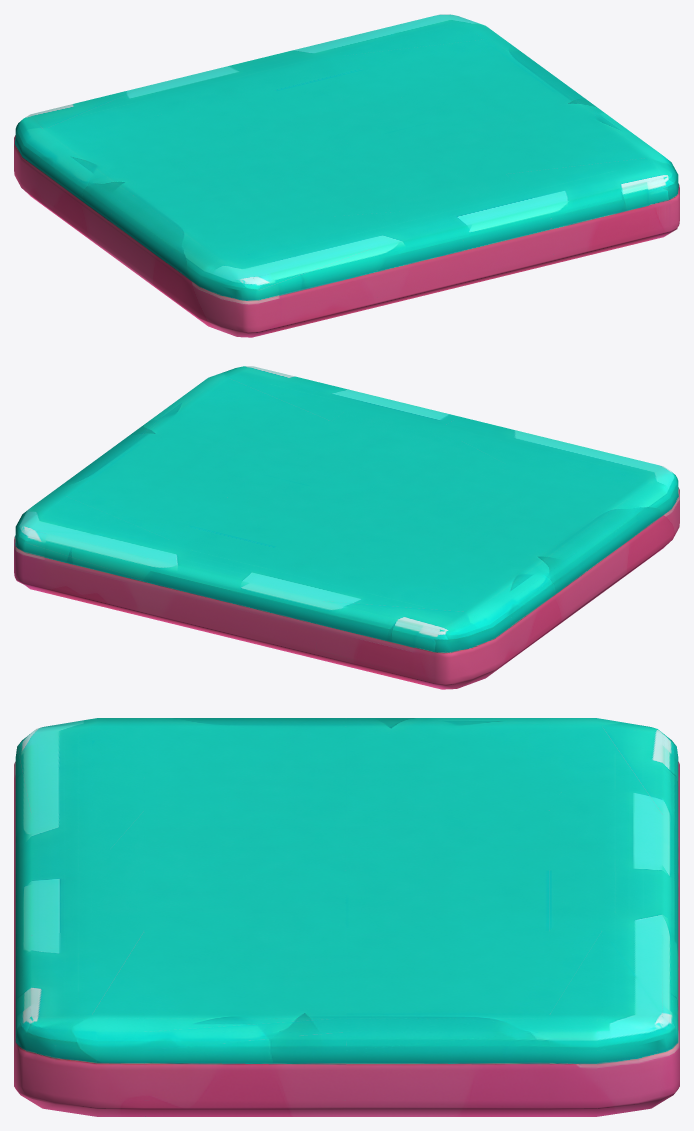
File: obstacle-carry.glb
3 views of the same model, one above another, from view 1: azimuth 30°, elevation 25°; view 2: azimuth 150°, elevation 25°; view 3: azimuth 270°, elevation 25° (orthographic). The views are drawn at different scales.
Size of the model in its own units: 1.91 by 0.2544 by 1.64.
Materials: 1 (1 with a texture image).
